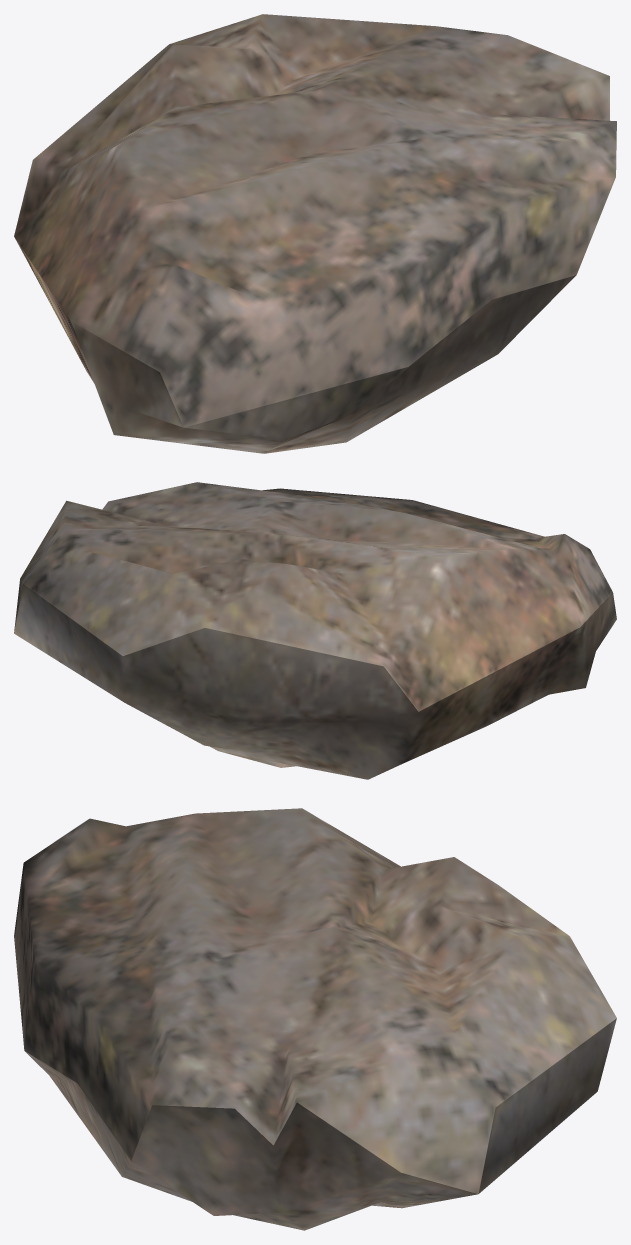
The model's file is SM_Stone10.FBX.
The picture shows the model from 3 angles, top to bottom: view 1: azimuth 30°, elevation 25°; view 2: azimuth 150°, elevation 25°; view 3: azimuth 270°, elevation 25°; orthographic projection. The views are drawn at different scales.
Parts seen in each view (by area): view 1: SM_Stone10; view 2: SM_Stone10; view 3: SM_Stone10.
Boxes of the visible parts, x1,y1,x2,y2 form: SM_Stone10: (14, 14, 616, 453); SM_Stone10: (14, 482, 616, 779); SM_Stone10: (14, 808, 616, 1230).
Bounding box in the file's own units: 149 × 125 × 72.68.
